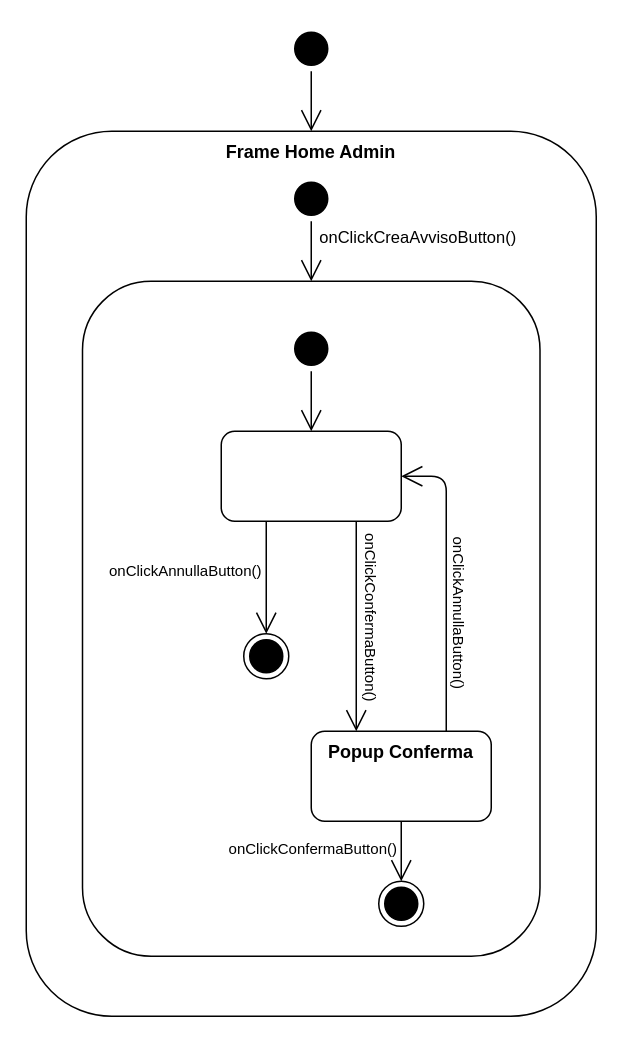
Image size: 623x1043. Some labels were removed from this diagram. Here are the shapes that lost their labels. From the top down, the box of each, then its label:
(220, 430, 401, 521): Inserimento testo exit / enableConfermaButton()
(81, 280, 540, 956): Popup Inserisce Avviso
